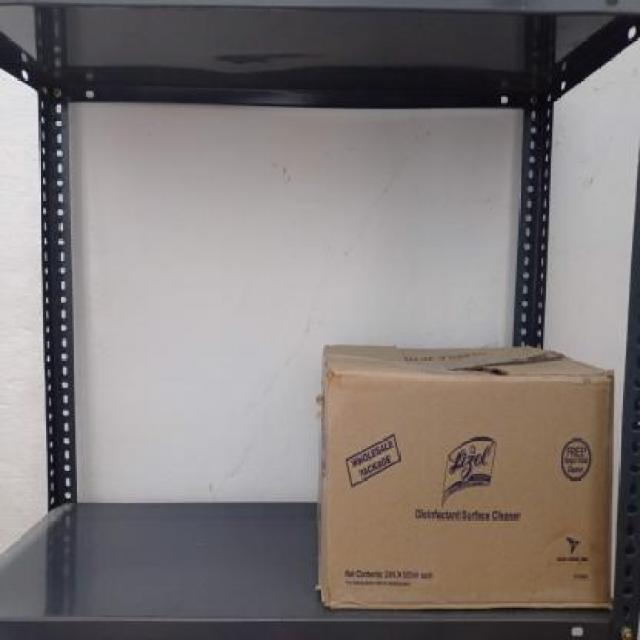box: (324, 372, 612, 612)
